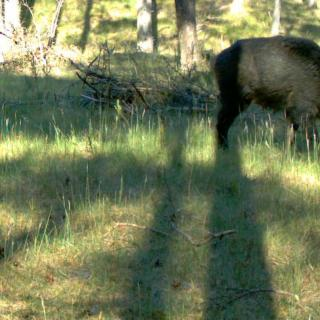Pig: (212, 24, 320, 170)
